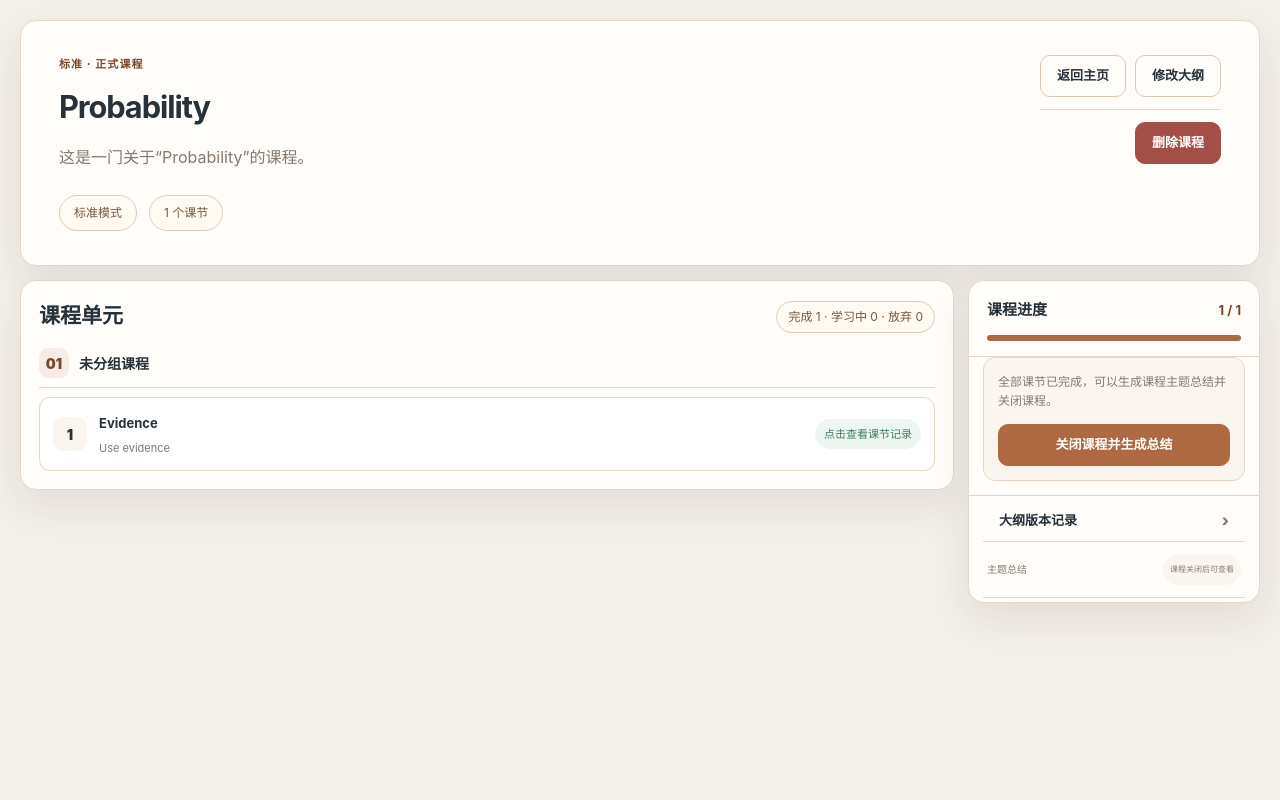
it: CoursePage › [EQ-COURSE-01] closes an eligible course and exposes its immutable topic summary only from the course archive
The image size is (1280, 800).
Step 1. Click the button "关闭课程并生成总结" → (1114, 445), box [998,424,1230,466]
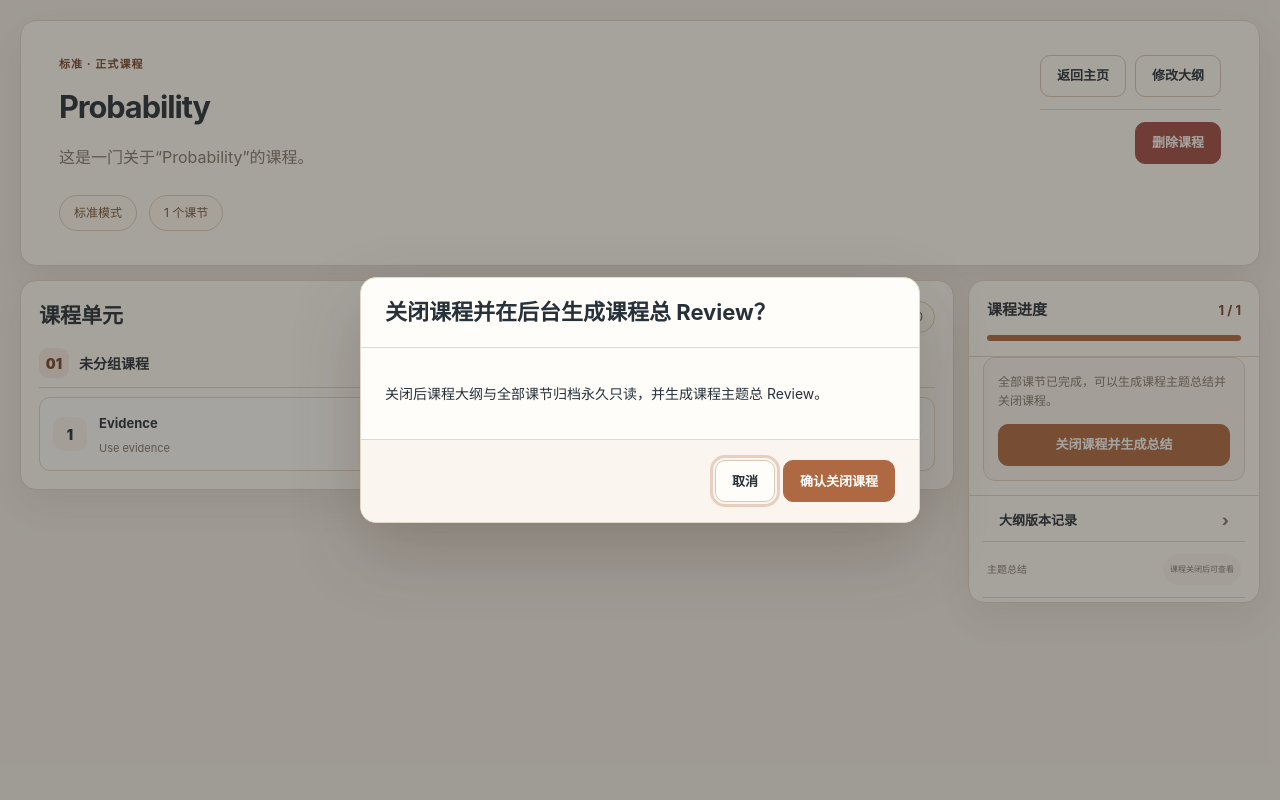
Step 2. Click the button "确认关闭课程" → (839, 481), box [783,460,895,502]
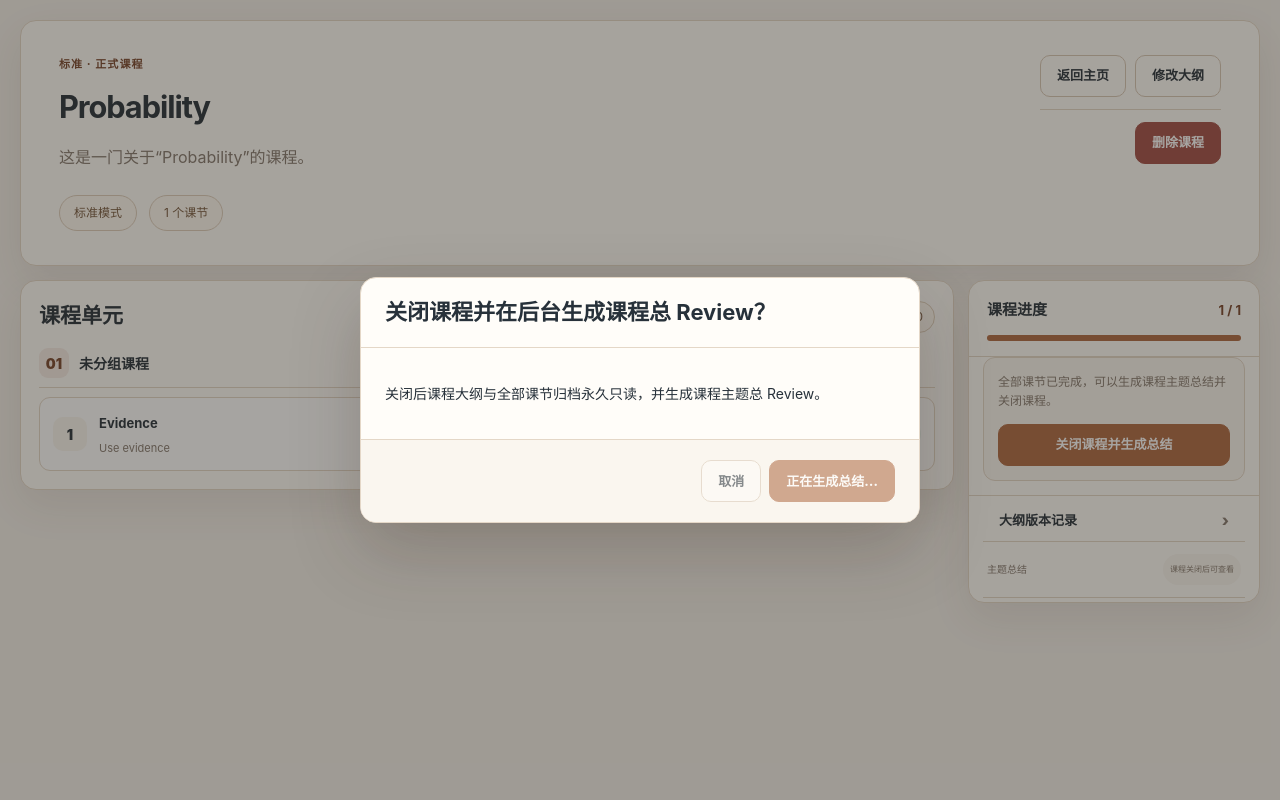
Step 3. Click the button named "确认关闭课程" → (832, 481), box [769,460,895,502]
(page scrolled)
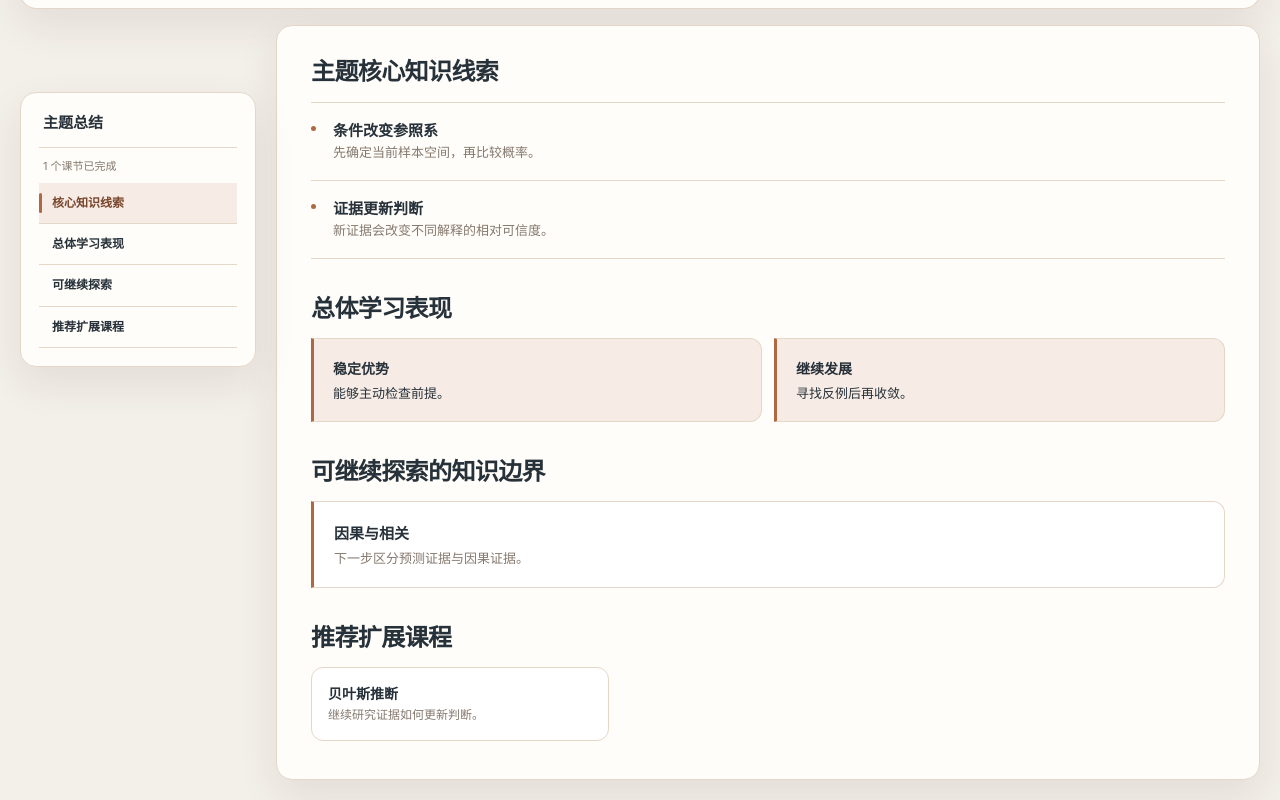
Result: the heading "主题核心知识线索" is shown at [311,57,498,86]
Result: the text "条件改变参照系" is shown at [333,120,438,140]
Result: the heading "总体学习表现" is shown at [311,294,451,323]
